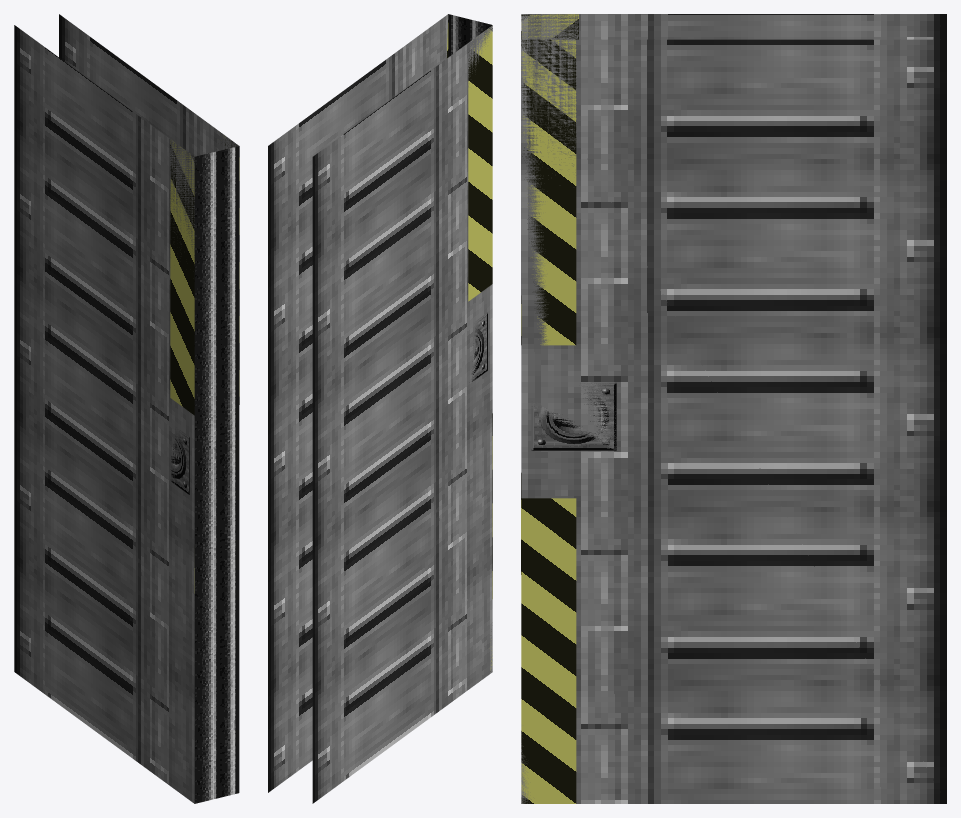
File: primary_188.glb
3 renders of one model, left to right at view 1: azimuth 30°, elevation 25°; view 2: azimuth 150°, elevation 25°; view 3: azimuth 270°, elevation 25°, orthographic. The views are drawn at different scales.
Parts seen in each view (by area): view 1: Object; view 2: Object; view 3: Object.
Boxes of the visible parts, x1,y1,x2,y2 form: Object: (14, 14, 239, 803); Object: (268, 14, 492, 803); Object: (521, 14, 946, 803).
Size of the model in its own units: 0.1675 by 2.32 by 1.17.
5 materials, 5 textured.
